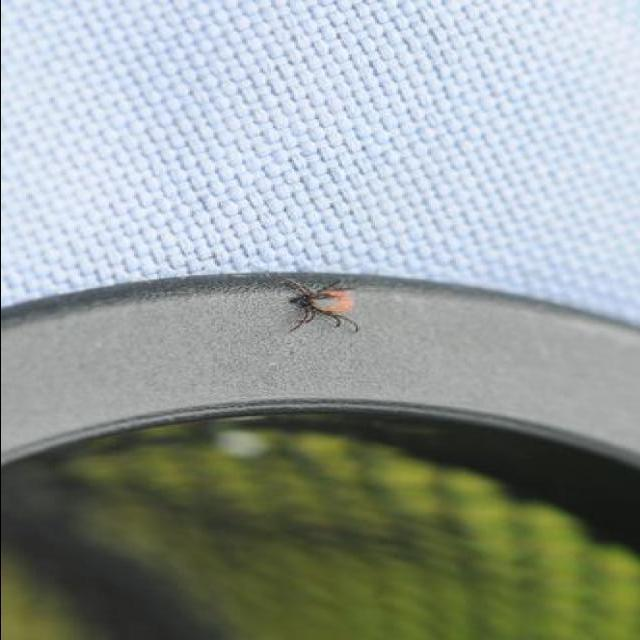Ixodes Ricinus-F: (283, 279, 364, 333)
